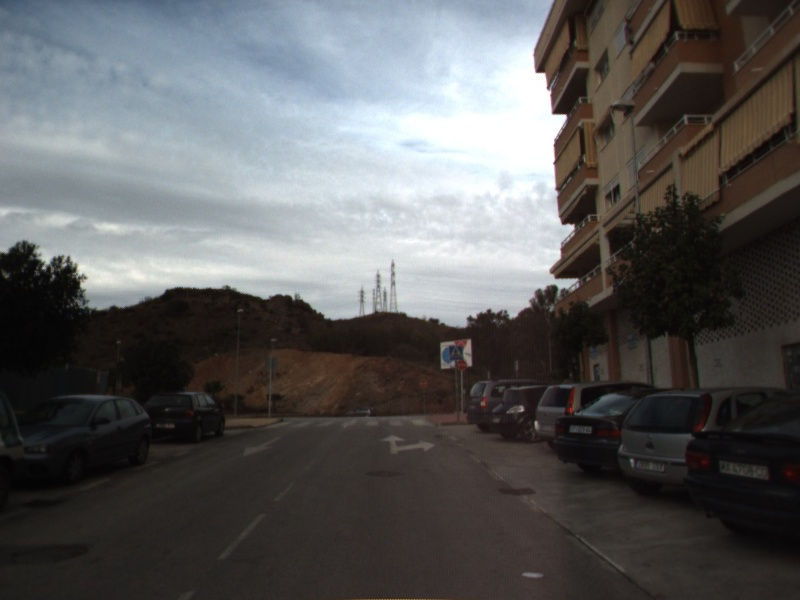STRAIGHT_RIGHT: (377, 433, 437, 457)
